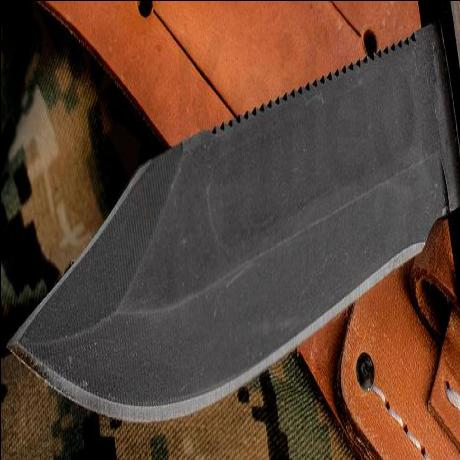weapon: (4, 15, 460, 427)
